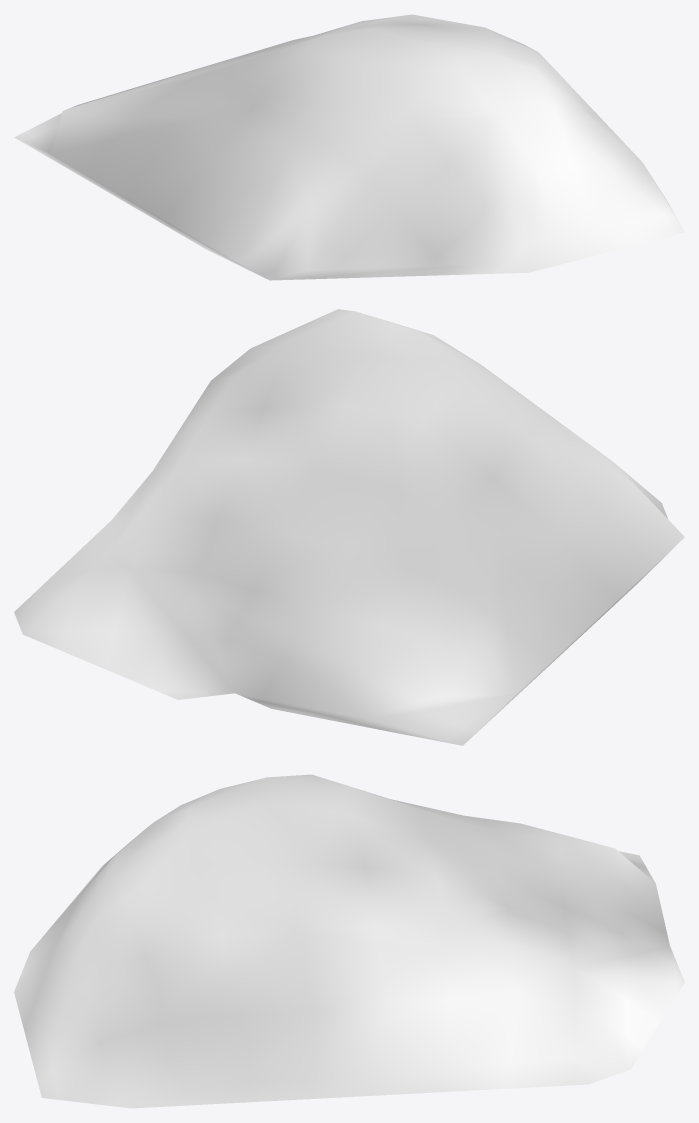
File: rock_small_2.glb
3 renders of one model, top to bottom at view 1: azimuth 30°, elevation 25°; view 2: azimuth 150°, elevation 25°; view 3: azimuth 270°, elevation 25°, orthographic. The views are drawn at different scales.
Visible parts, largest first — view 1: rock_small_2; view 2: rock_small_2; view 3: rock_small_2.
Boxes of the visible parts, x1,y1,x2,y2 form: rock_small_2: [14, 14, 684, 280]; rock_small_2: [14, 309, 684, 745]; rock_small_2: [14, 774, 684, 1108].
Bounding box in the file's own units: 0.1909 × 0.0692 × 0.219.
Materials: 1 (1 with a texture image).
